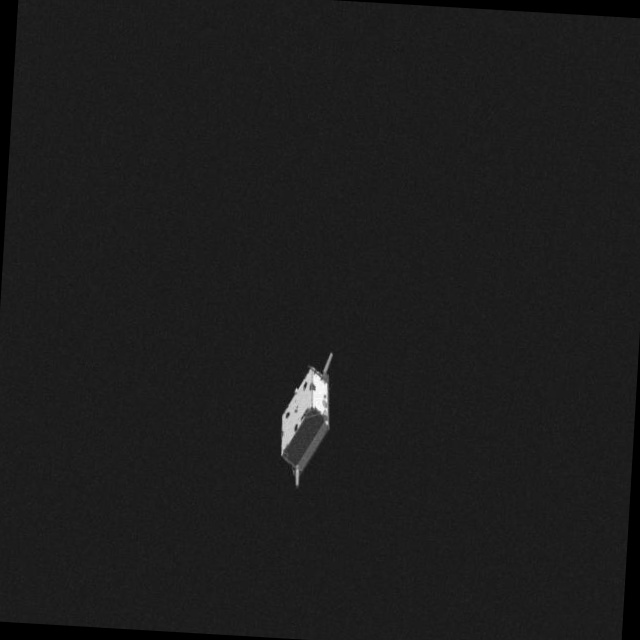satellite: (274, 346, 348, 491)
